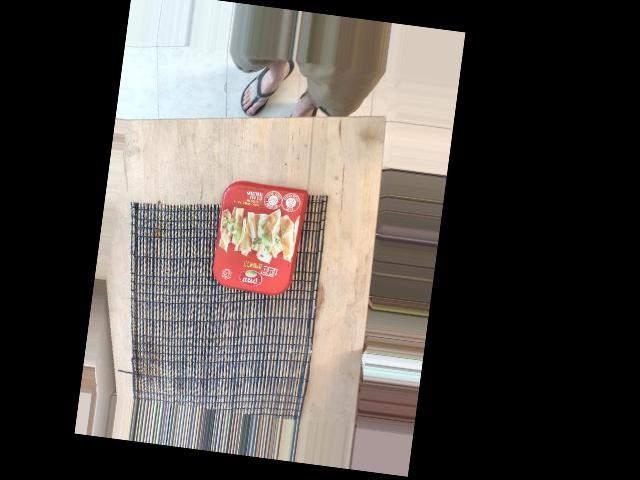cheese: (114, 203, 257, 307)
